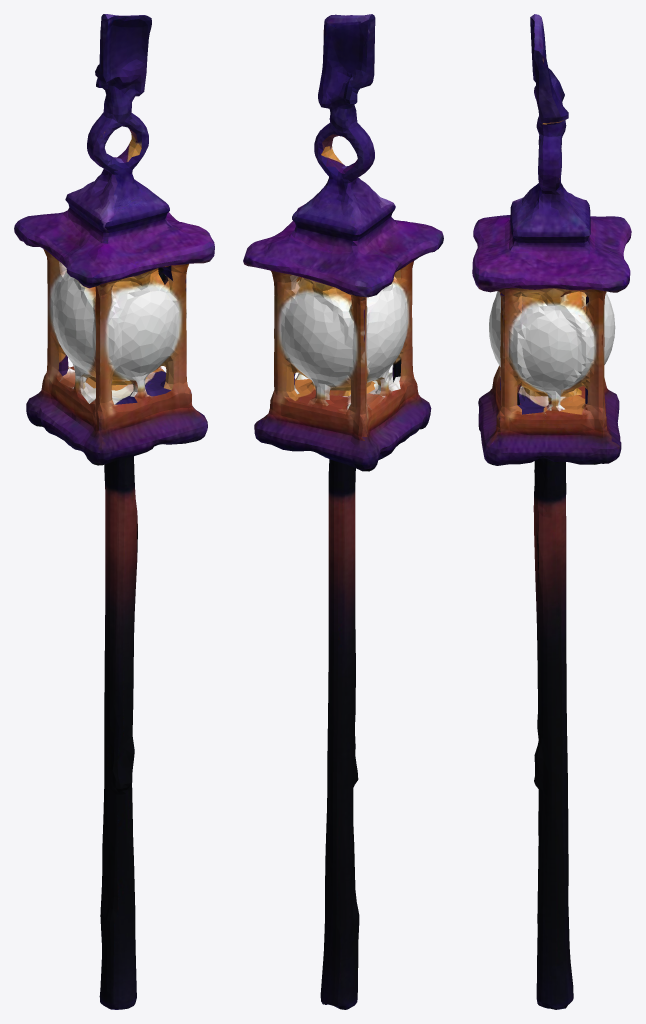
Rendered from lamp_post.glb.
3 views of the same model, side by side, from view 1: azimuth 30°, elevation 25°; view 2: azimuth 150°, elevation 25°; view 3: azimuth 270°, elevation 25° (orthographic). The views are drawn at different scales.
Visible parts, largest first — view 1: tmp2yckq65i.ply; view 2: tmp2yckq65i.ply; view 3: tmp2yckq65i.ply.
Boxes of the visible parts, x1,y1,x2,y2 form: tmp2yckq65i.ply: (14,14,214,1009); tmp2yckq65i.ply: (243,14,443,1009); tmp2yckq65i.ply: (472,14,631,1009).
Bounding box in the file's own units: 0.296 × 1.99 × 0.2938.
Materials: 1 (1 with a texture image).
